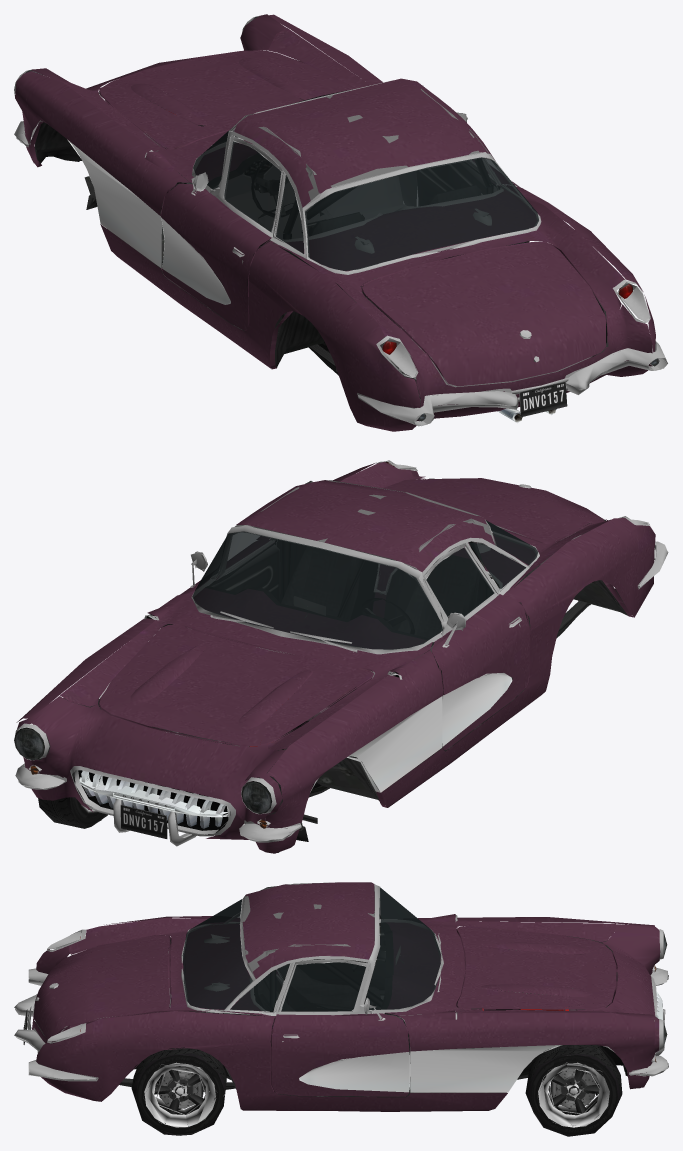
The model's file is duntov_lo.glb.
The picture shows the model from 3 angles, top to bottom: view 1: azimuth 30°, elevation 25°; view 2: azimuth 150°, elevation 25°; view 3: azimuth 270°, elevation 25°; orthographic projection. The views are drawn at different scales.
Visible parts, largest first — view 1: body; view 2: body, wheel_F; view 3: body, wheel_F, wheel_R.
Boxes of the visible parts, left/top/right/bottom form: body: left=14, top=14, right=667, bottom=431; body: left=14, top=460, right=668, bottom=853; wheel_F: left=38, top=797, right=107, bottom=828; body: left=14, top=882, right=668, bottom=1111; wheel_F: left=525, top=1045, right=622, bottom=1136; wheel_R: left=131, top=1047, right=226, bottom=1135.
Size of the model in its own units: 2.01 by 1.5 by 5.02.
Materials: 12 (12 with a texture image).
